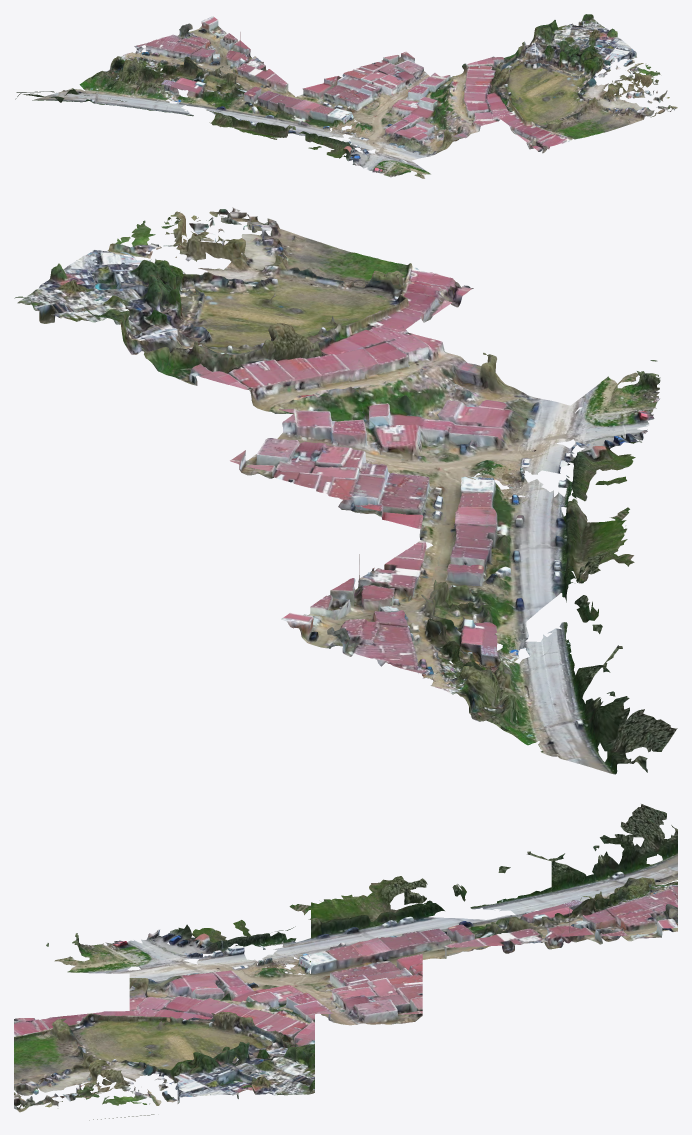
File: bairro_01.glb
3 renders of one model, top to bottom at view 1: azimuth 30°, elevation 25°; view 2: azimuth 150°, elevation 25°; view 3: azimuth 270°, elevation 25°, orthographic. The views are drawn at different scales.
Visible parts, largest first — view 1: bairro_01; view 2: bairro_01; view 3: bairro_01.
Boxes of the visible parts, bbox=[...] form: bairro_01: bbox=[15, 14, 677, 178]; bairro_01: bbox=[14, 207, 677, 774]; bairro_01: bbox=[14, 804, 677, 1120].
Size of the model in its own units: 235 by 32.99 by 189.
1 material, 1 textured.
